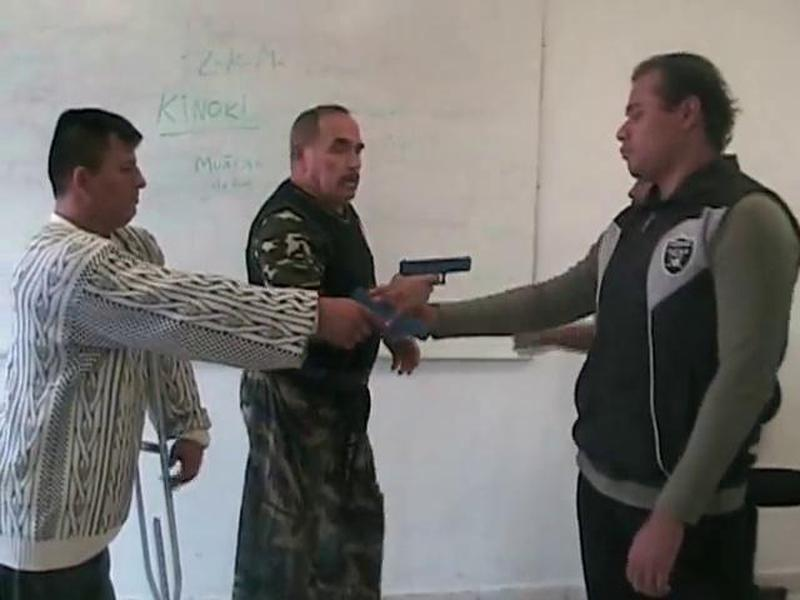Pistola: (391, 249, 484, 313)
